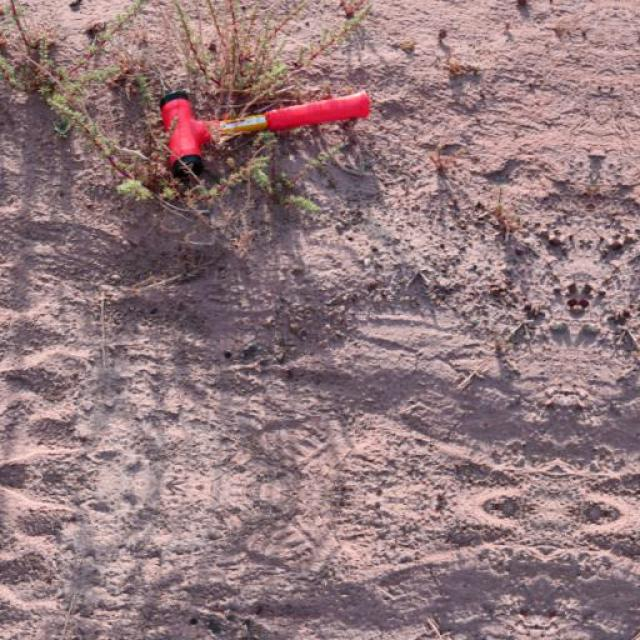mallet: (158, 86, 372, 184)
